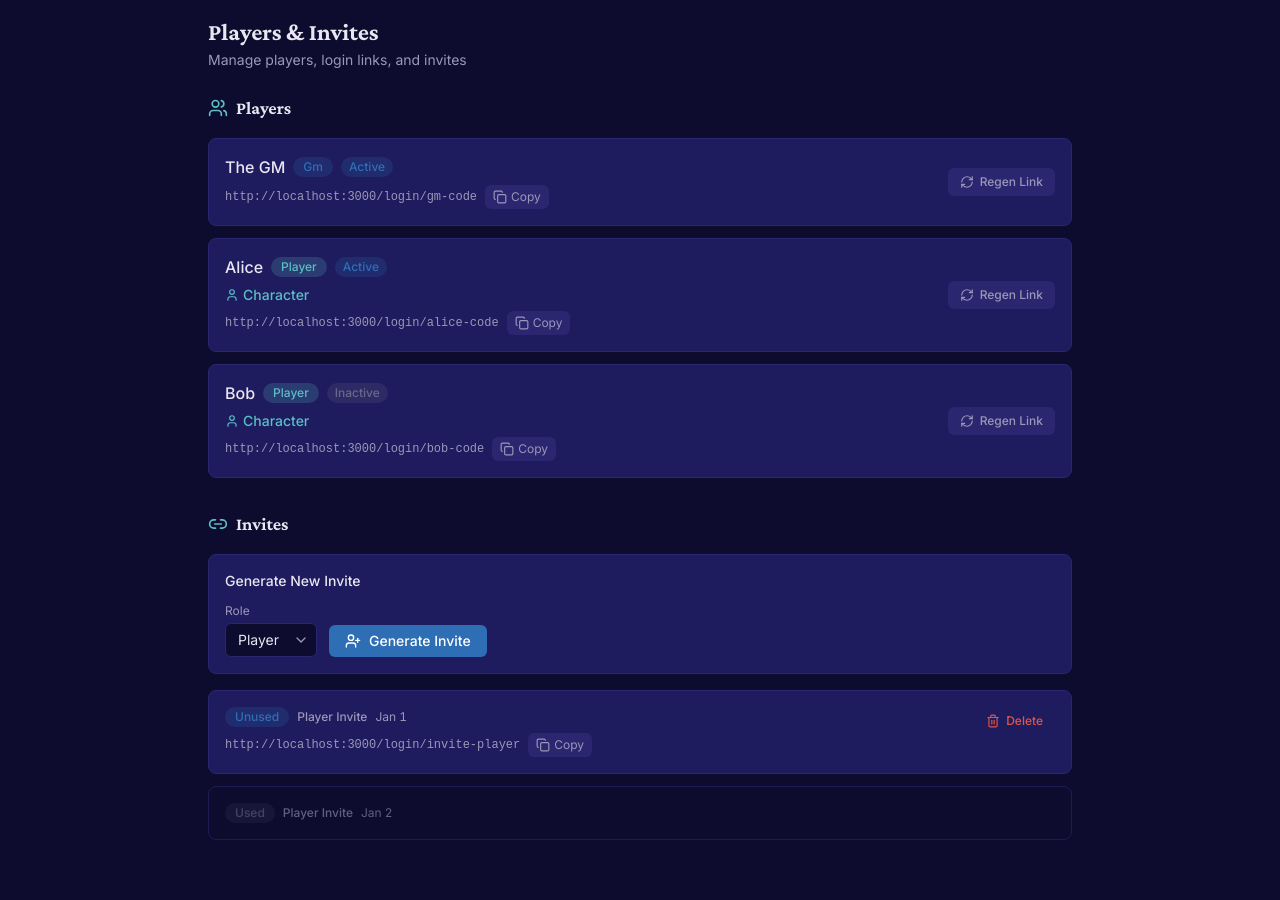
Test case: GmPlayersPage — token regeneration › opens a confirm modal before regenerating
This screenshot has width=1280, height=900.
Check: the text "Alice" is shown, box [225,255,263,279]
Click the first regen button (any player)
Click the button with aria-label "regenerate token for": coordinates (1001, 182) [948,168,1055,196]
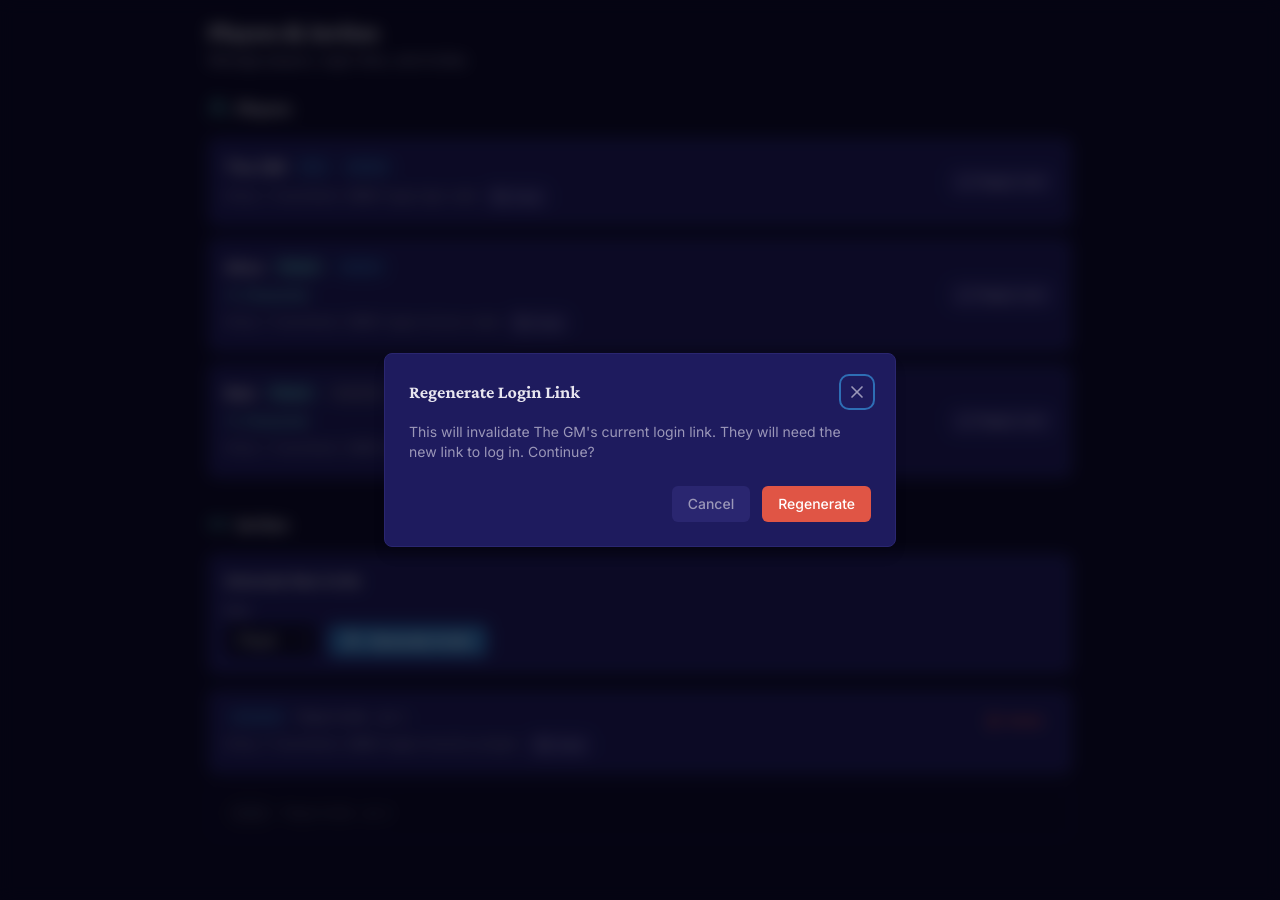
Check: the heading "Regenerate Login Link" is shown, box [409,378,580,406]
